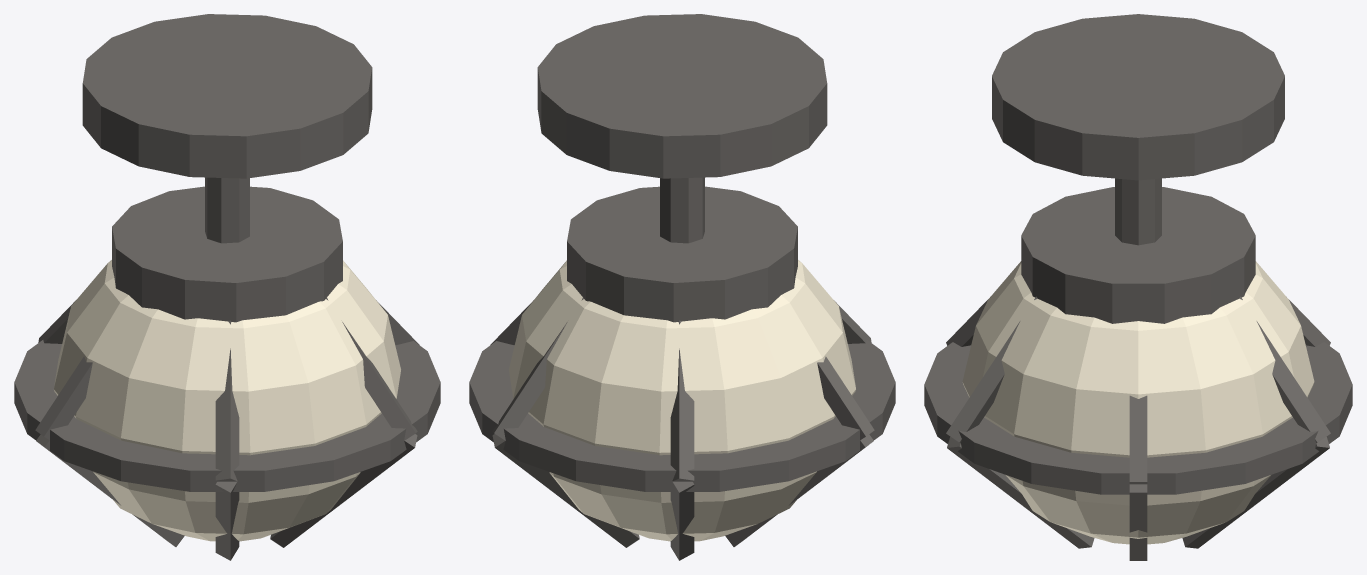
File: dm_ceilinglantern.glb
3 renders of one model, left to right at view 1: azimuth 30°, elevation 25°; view 2: azimuth 150°, elevation 25°; view 3: azimuth 270°, elevation 25°, orthographic.
Visible parts, largest first — view 1: dm_ceilinglantern; view 2: dm_ceilinglantern; view 3: dm_ceilinglantern.
Boxes of the visible parts, box(x1,y1,x2,y2) form: dm_ceilinglantern: box(14, 14, 440, 560); dm_ceilinglantern: box(469, 14, 895, 560); dm_ceilinglantern: box(924, 14, 1352, 560).
Size of the model in its own units: 0.1486 by 0.173 by 0.146.
